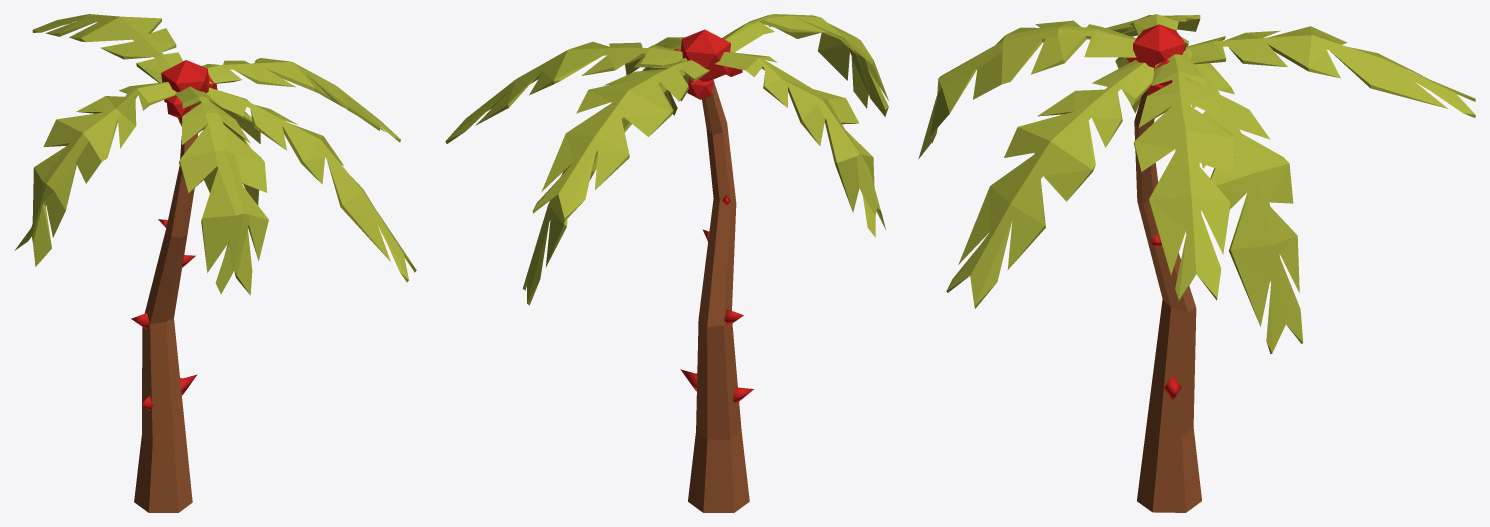
The model's file is Factory_Tree_1.fbx.
3 renders of one model, left to right at view 1: azimuth 30°, elevation 25°; view 2: azimuth 150°, elevation 25°; view 3: azimuth 270°, elevation 25°, orthographic. The views are drawn at different scales.
Parts seen in each view (by area): view 1: Factory Tree 1; view 2: Factory Tree 1; view 3: Factory Tree 1.
Part boxes in pixels (x1=…): Factory Tree 1: x1=14, y1=14, x2=416, y2=512; Factory Tree 1: x1=445, y1=14, x2=888, y2=512; Factory Tree 1: x1=918, y1=14, x2=1475, y2=512.
Size of the model in its own units: 2080 by 2243 by 2330.
